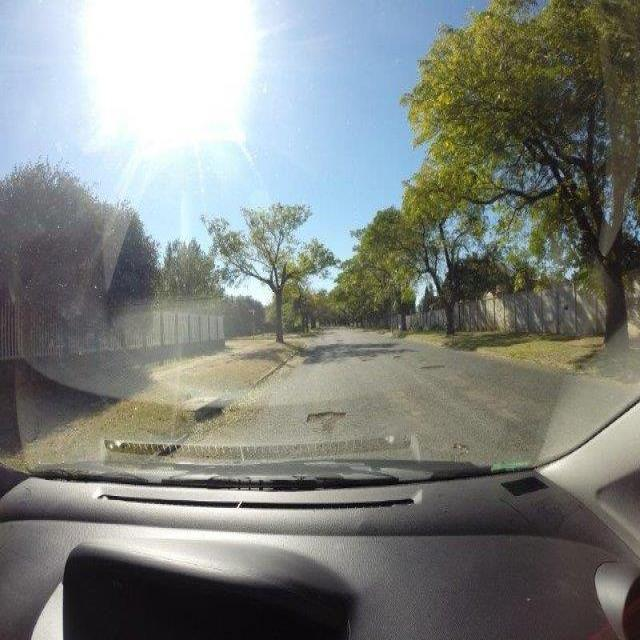lubang: (301, 401, 352, 439), (452, 439, 471, 457), (418, 362, 449, 373), (391, 345, 403, 362)
